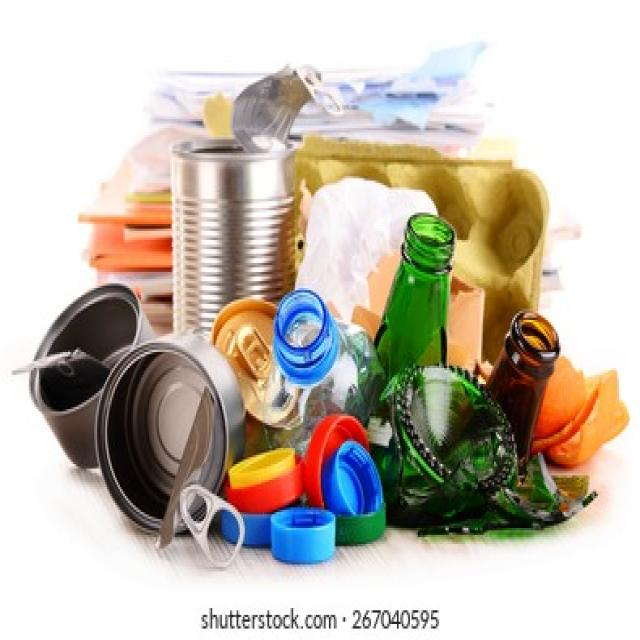glass: (379, 284, 533, 482)
metal: (66, 309, 236, 530), (173, 146, 290, 281)
plastic: (293, 329, 366, 423)
